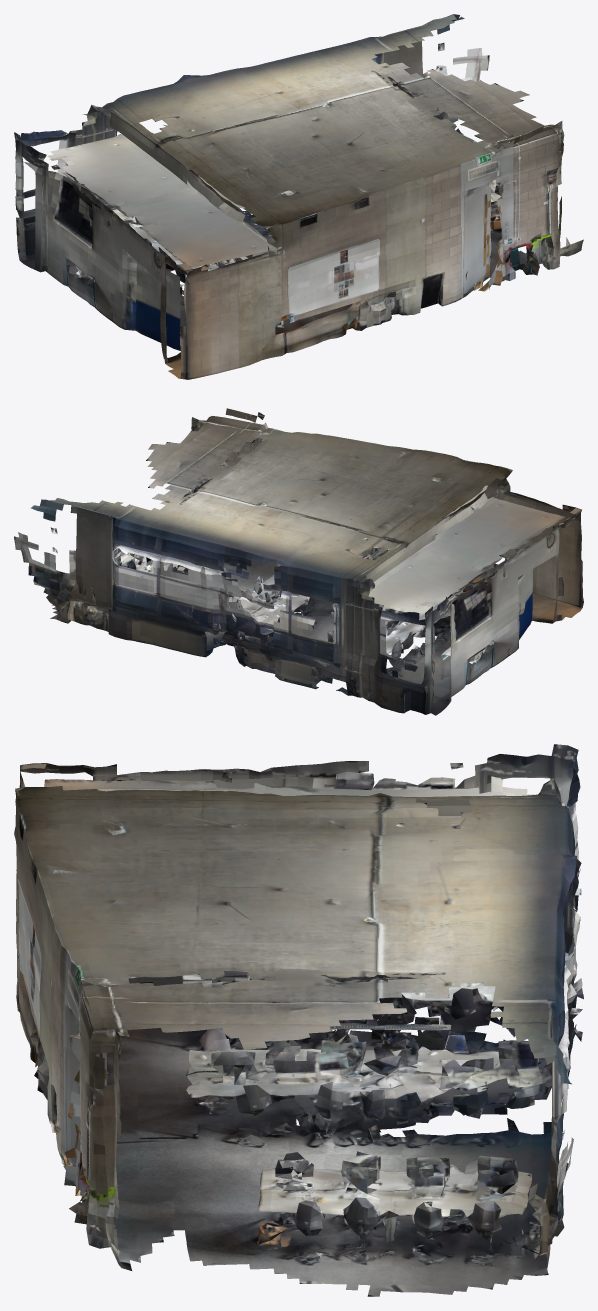
The picture shows the model from 3 angles, top to bottom: view 1: azimuth 30°, elevation 25°; view 2: azimuth 150°, elevation 25°; view 3: azimuth 270°, elevation 25°; orthographic projection. The views are drawn at different scales.
Visible parts, largest first — view 1: 2_m214_2-IM; view 2: 2_m214_2-IM; view 3: 2_m214_2-IM.
Boxes of the visible parts, x1=… form: 2_m214_2-IM: x1=14, y1=14, x2=583, y2=379; 2_m214_2-IM: x1=14, y1=408, x2=583, y2=715; 2_m214_2-IM: x1=14, y1=744, x2=583, y2=1296.
Size of the model in its own units: 1170 by 366 by 759.
1 material, 1 textured.
